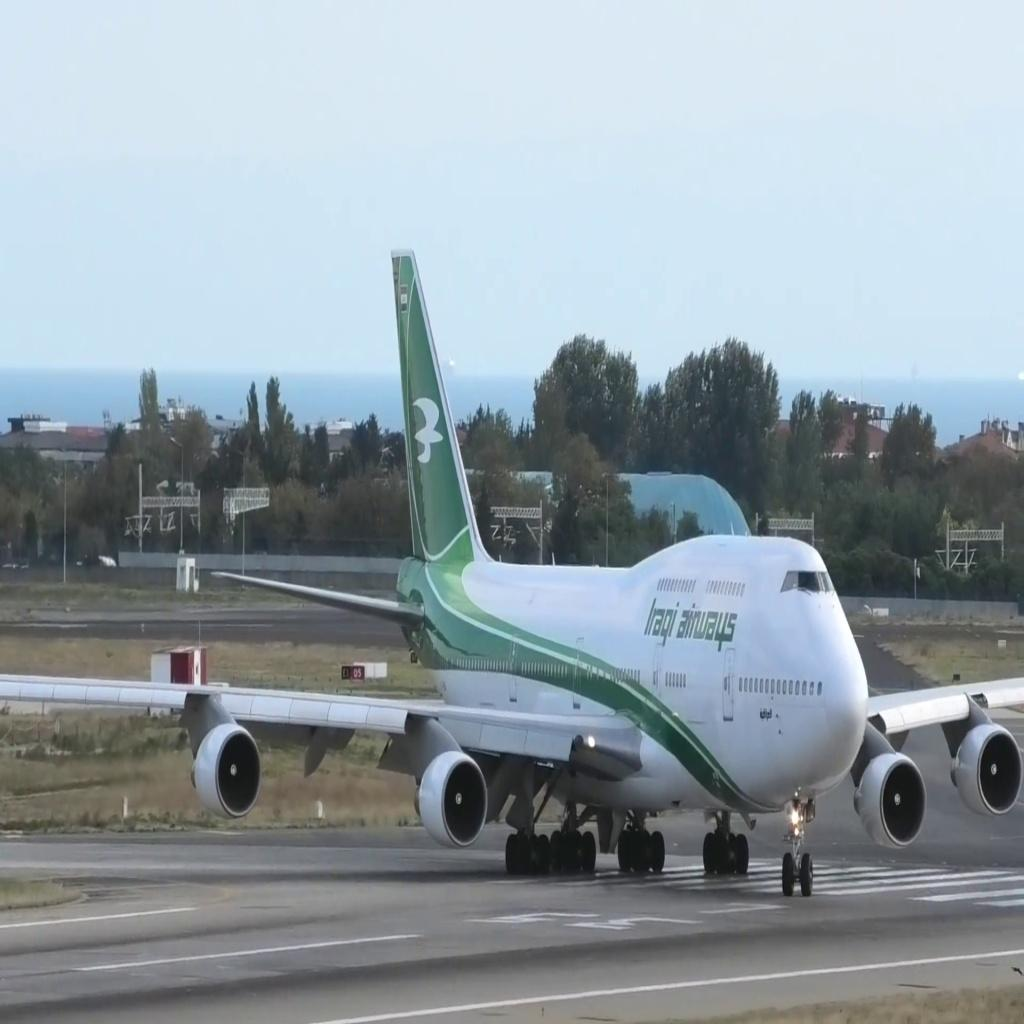airplane: (0, 243, 1024, 909)
